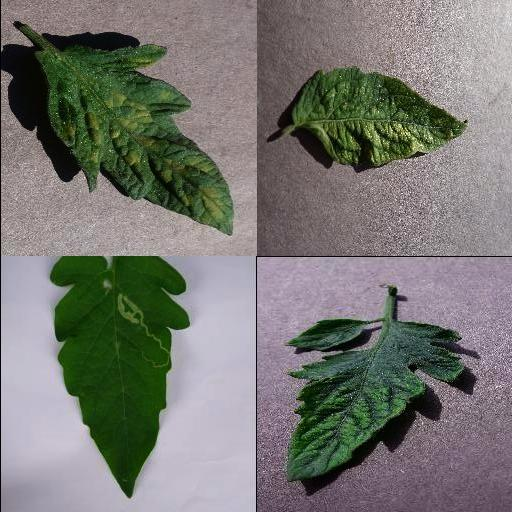Leaf Miner: (49, 256, 192, 498)
Leaf Mold: (34, 47, 232, 236)
Mosaic Virus: (282, 316, 466, 484)
Spider Mites: (291, 68, 467, 174)
